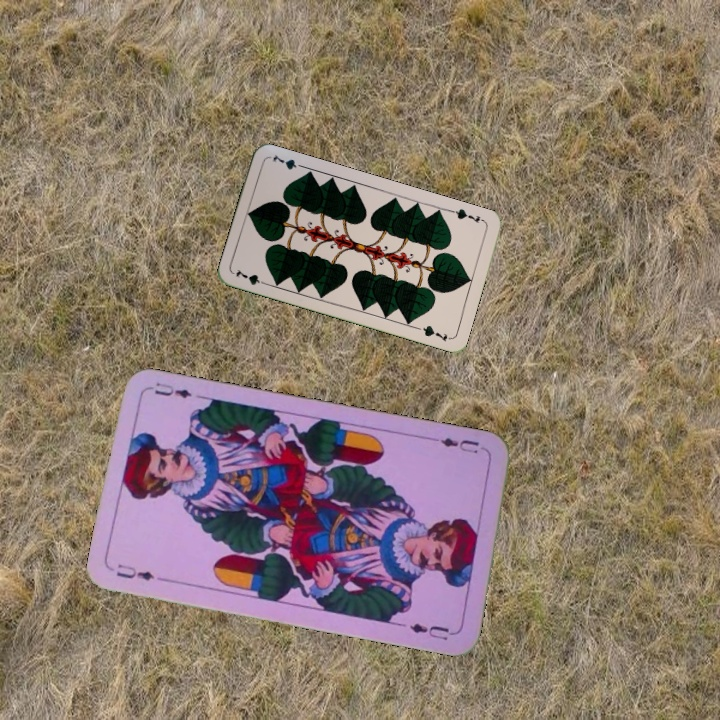EU: (112, 560, 169, 584), (430, 433, 482, 456)
G7: (231, 265, 271, 288), (447, 205, 487, 226)
